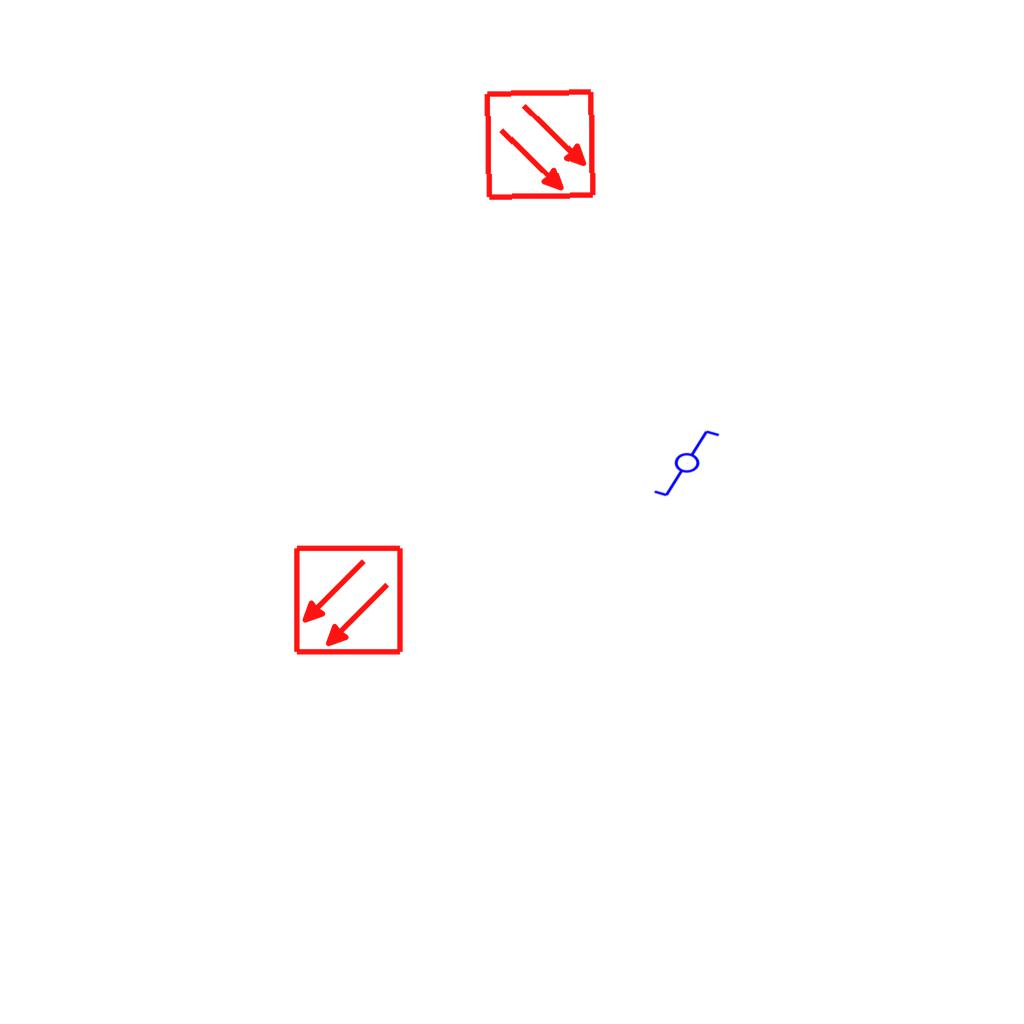RMO_Rauchmelder_optischer: (483, 87, 598, 202), (292, 544, 405, 657)
Wechselschalter: (652, 428, 730, 500)
